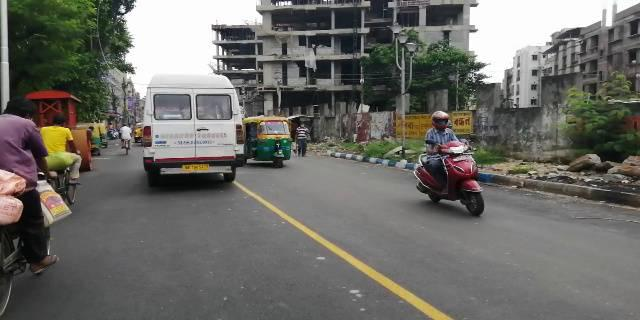Autorickshaw: (243, 115, 295, 169)
Cycle: (1, 96, 53, 318), (37, 110, 85, 206)
Motorbike: (411, 108, 492, 219)
Van: (140, 71, 246, 184)
